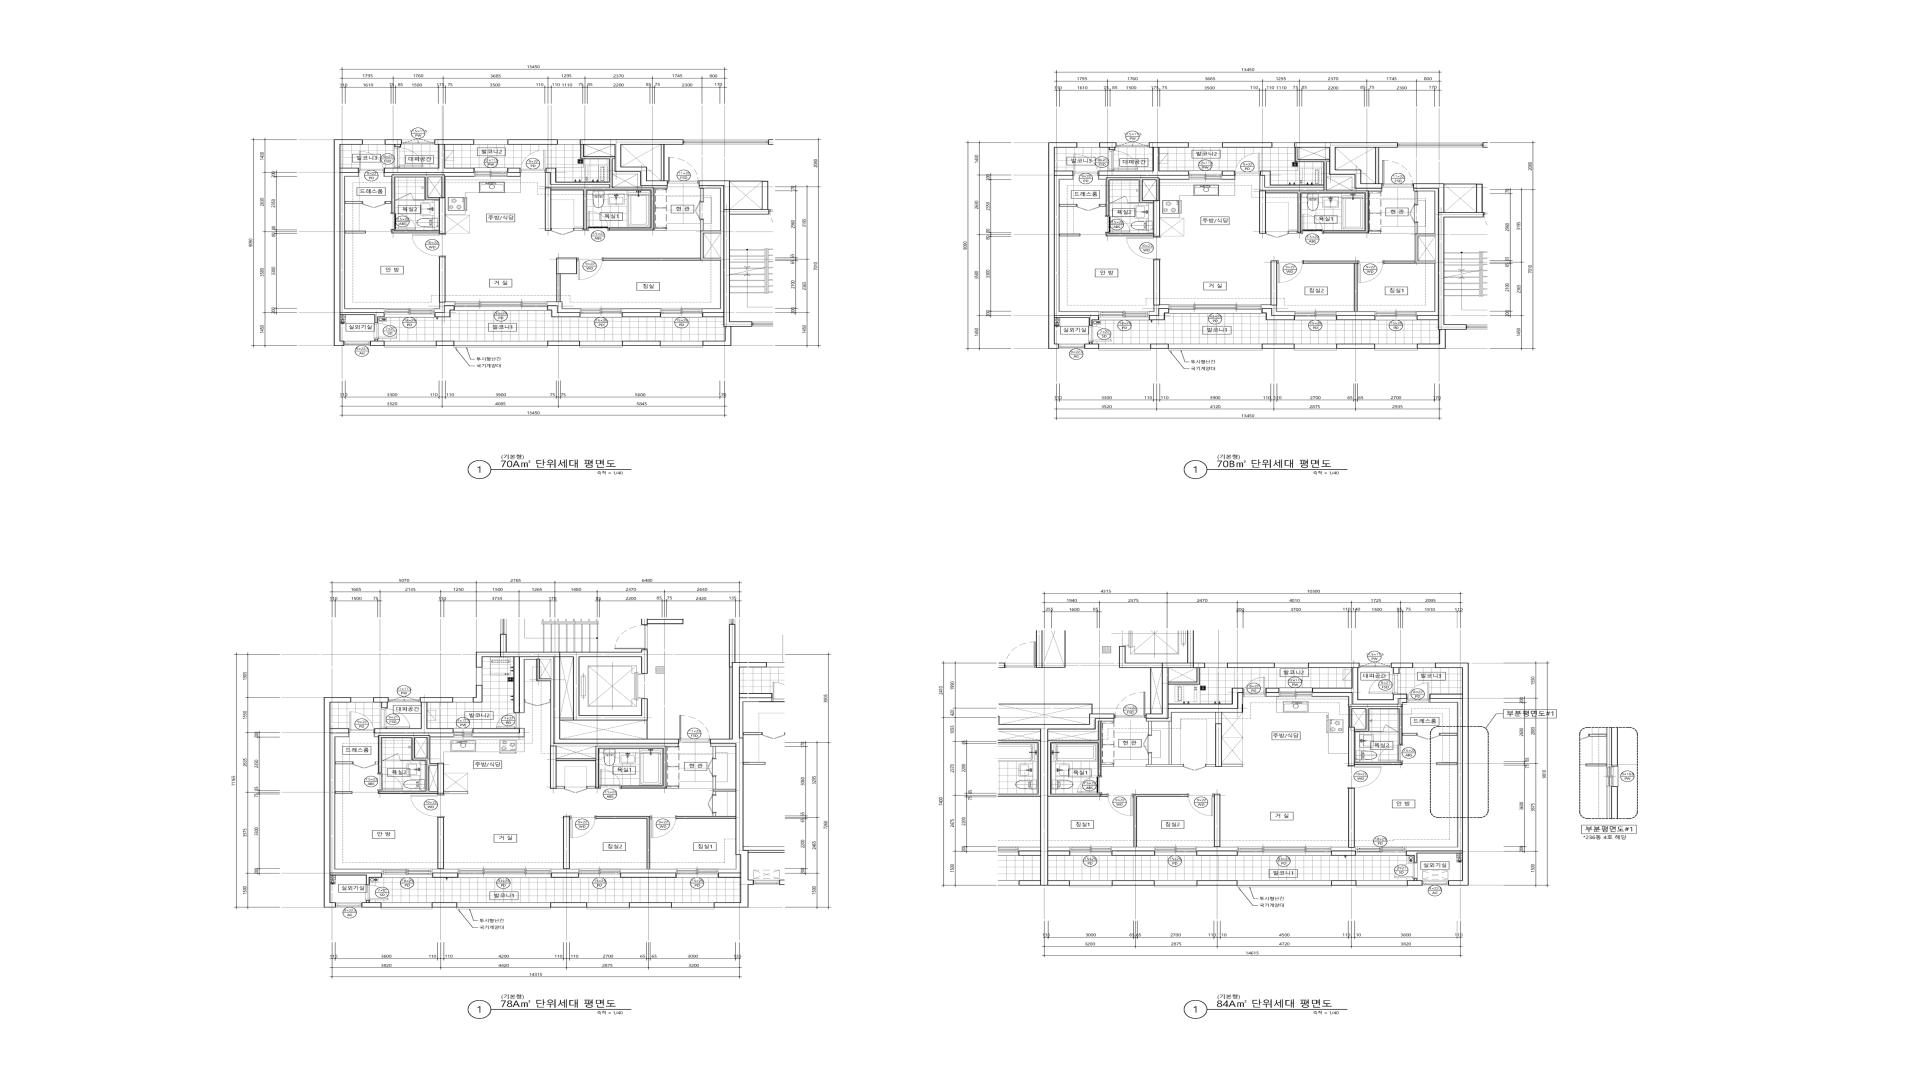door: (1382, 160, 1414, 187), (679, 715, 711, 741), (667, 157, 699, 183), (615, 625, 647, 650), (410, 794, 444, 818), (1126, 236, 1160, 260), (1114, 692, 1146, 717), (413, 233, 446, 257), (1349, 766, 1382, 789), (1109, 150, 1138, 171), (1369, 674, 1399, 694), (650, 816, 676, 839), (1234, 153, 1261, 175), (520, 150, 546, 173), (1188, 794, 1215, 816), (1108, 794, 1134, 816), (381, 708, 410, 728), (394, 148, 423, 167), (1358, 261, 1383, 284), (348, 712, 375, 733), (570, 816, 596, 837), (1278, 261, 1304, 282), (576, 258, 603, 280), (359, 152, 384, 173), (1073, 154, 1098, 175), (599, 769, 621, 789), (1302, 214, 1324, 233), (587, 211, 609, 231), (1407, 683, 1429, 703), (1244, 676, 1266, 696), (1378, 745, 1403, 762), (378, 774, 402, 791), (1106, 216, 1130, 233), (1077, 777, 1101, 794), (392, 214, 415, 229), (1089, 326, 1112, 342), (375, 323, 397, 339), (1395, 862, 1418, 878), (496, 713, 520, 728), (367, 885, 388, 901), (695, 200, 704, 220), (525, 699, 550, 705), (352, 762, 376, 769), (1416, 733, 1440, 740), (564, 786, 587, 793), (1077, 204, 1100, 211), (1266, 231, 1288, 237), (551, 228, 574, 235), (363, 202, 385, 208), (708, 758, 716, 777), (1410, 204, 1418, 223), (1143, 735, 1151, 753), (382, 753, 400, 761), (708, 795, 716, 812), (396, 193, 413, 200), (1183, 765, 1207, 770), (1110, 196, 1127, 203), (1383, 725, 1399, 732)
wall: (676, 624, 749, 907), (476, 650, 679, 744), (520, 657, 679, 746), (1406, 663, 1469, 886), (1040, 713, 1114, 886), (1259, 142, 1398, 233), (323, 698, 381, 907), (1414, 183, 1484, 349), (699, 181, 769, 345), (1048, 142, 1098, 349), (334, 140, 384, 345), (545, 145, 654, 231), (1120, 646, 1244, 719), (1406, 699, 1462, 851), (1146, 692, 1244, 766), (330, 733, 381, 873), (1055, 175, 1098, 315), (340, 173, 384, 313), (550, 746, 666, 789), (603, 220, 720, 261), (580, 140, 683, 186), (1308, 663, 1407, 704), (378, 736, 443, 794), (1349, 707, 1403, 766), (699, 186, 724, 313), (1106, 178, 1160, 236), (1414, 189, 1437, 315), (384, 140, 475, 173), (1098, 142, 1188, 175), (596, 816, 650, 869), (1134, 794, 1188, 847), (375, 698, 454, 733), (1303, 261, 1358, 311), (392, 174, 444, 214), (1327, 162, 1382, 191), (613, 160, 667, 187), (1312, 694, 1407, 707), (1259, 175, 1324, 191), (1048, 719, 1114, 732), (472, 728, 525, 737), (1419, 236, 1436, 261), (717, 855, 740, 873), (713, 777, 736, 795), (1262, 309, 1295, 320), (709, 744, 736, 758), (1168, 669, 1197, 682), (384, 173, 475, 177), (1098, 175, 1188, 179), (563, 816, 570, 869), (1262, 305, 1295, 315), (547, 306, 580, 316), (547, 302, 580, 313), (438, 818, 444, 869), (556, 257, 576, 274), (375, 733, 454, 737), (1349, 789, 1354, 848), (537, 659, 551, 680), (1154, 260, 1160, 306), (620, 873, 676, 878), (1271, 261, 1278, 306), (439, 257, 446, 302), (1142, 181, 1156, 200), (1352, 709, 1366, 729), (641, 618, 683, 625), (1215, 794, 1220, 847), (1216, 724, 1222, 766), (508, 140, 558, 145), (1222, 142, 1273, 148), (472, 728, 520, 733), (1228, 663, 1275, 669), (1391, 663, 1414, 674), (439, 198, 446, 233), (1149, 309, 1168, 320), (1112, 851, 1155, 856), (620, 869, 676, 873), (629, 902, 671, 907), (1112, 881, 1154, 886), (1196, 851, 1237, 856), (1197, 881, 1237, 886), (1336, 315, 1375, 320), (1149, 305, 1168, 315), (435, 306, 455, 316), (435, 302, 455, 313), (1337, 344, 1375, 349), (729, 667, 732, 738), (551, 902, 587, 907), (392, 229, 439, 233), (472, 686, 483, 703), (1112, 847, 1155, 851), (373, 698, 389, 708), (1262, 344, 1294, 349), (1196, 847, 1237, 851), (1336, 311, 1375, 315), (622, 309, 661, 313), (622, 342, 661, 345), (622, 313, 661, 316), (551, 873, 579, 878), (1375, 148, 1379, 183), (661, 145, 665, 181), (385, 140, 402, 148), (1100, 142, 1117, 150), (433, 873, 458, 878), (361, 901, 381, 907), (433, 902, 456, 907), (1332, 881, 1356, 886), (1407, 878, 1423, 886), (547, 342, 579, 345), (1332, 851, 1356, 856), (1084, 342, 1098, 349), (551, 869, 579, 873), (508, 167, 520, 177), (556, 274, 560, 302), (433, 869, 458, 873), (1332, 847, 1356, 851), (1151, 344, 1168, 349), (371, 339, 384, 345), (1383, 261, 1415, 264), (1048, 847, 1069, 851), (436, 342, 454, 345), (443, 791, 468, 794), (1150, 669, 1151, 713), (345, 231, 365, 233), (700, 189, 704, 202), (1266, 688, 1279, 692), (1266, 692, 1279, 696), (1222, 175, 1234, 179), (1222, 171, 1234, 175), (345, 202, 363, 204), (1444, 183, 1477, 185), (731, 181, 762, 182), (666, 786, 679, 789), (560, 717, 574, 720), (1403, 733, 1416, 736), (1369, 231, 1381, 233), (654, 228, 666, 231), (574, 228, 584, 231), (1222, 765, 1244, 766), (587, 786, 596, 789), (1288, 231, 1298, 233), (556, 786, 564, 789), (1100, 204, 1106, 207), (385, 202, 392, 204), (1101, 765, 1114, 766), (400, 760, 411, 761), (413, 199, 425, 200), (1207, 765, 1216, 766), (713, 812, 716, 816), (376, 762, 378, 765), (1127, 203, 1139, 203), (1370, 732, 1383, 732)
window: (1237, 847, 1332, 856), (458, 869, 551, 878), (1168, 305, 1262, 314), (455, 302, 547, 310), (1237, 881, 1332, 887), (456, 903, 551, 910), (1168, 344, 1262, 351), (454, 342, 547, 348), (381, 869, 433, 878), (384, 309, 435, 318), (1356, 847, 1406, 856), (1098, 311, 1149, 320), (676, 869, 719, 878), (1375, 311, 1418, 320), (1295, 311, 1337, 320), (661, 309, 703, 318), (580, 309, 622, 318), (1069, 847, 1112, 856), (579, 869, 620, 878), (1155, 847, 1196, 856), (1098, 344, 1151, 351), (384, 342, 436, 348), (671, 902, 715, 910), (381, 903, 433, 910), (1356, 881, 1407, 887), (587, 902, 629, 910), (475, 167, 508, 177), (1154, 881, 1197, 887), (1294, 344, 1337, 351), (1374, 344, 1418, 351), (579, 342, 622, 348), (1069, 881, 1112, 887), (661, 342, 703, 348), (1188, 171, 1222, 179), (1279, 688, 1312, 696), (388, 696, 419, 703), (1117, 141, 1149, 148), (402, 138, 434, 145), (1188, 142, 1222, 148), (473, 140, 508, 145), (1275, 663, 1308, 669), (454, 728, 472, 737), (1360, 662, 1391, 667), (335, 902, 361, 907), (1059, 344, 1084, 349), (476, 667, 483, 686), (351, 698, 373, 703), (1077, 142, 1100, 148), (1273, 142, 1295, 148), (363, 140, 385, 145), (558, 140, 580, 145), (452, 698, 472, 703), (344, 342, 371, 345), (1423, 881, 1448, 885), (1205, 663, 1228, 667), (1414, 663, 1435, 667)
